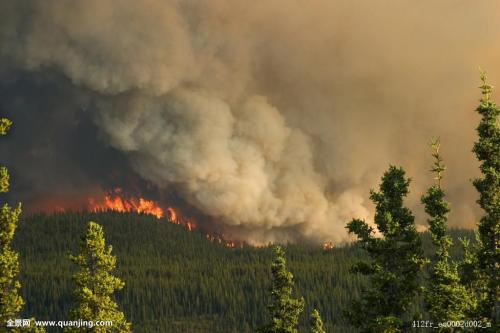fire: (52, 189, 209, 230)
yanwu: (2, 0, 384, 238)
